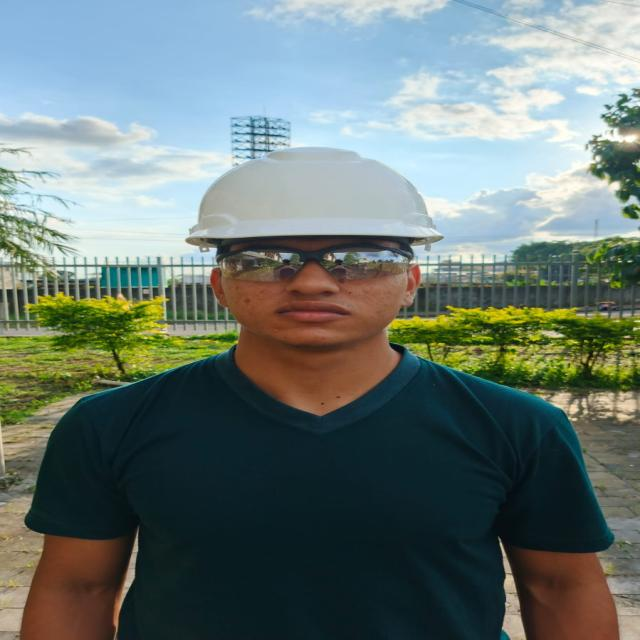helmet: (186, 147, 443, 247)
protective_glasses: (216, 246, 414, 281)
